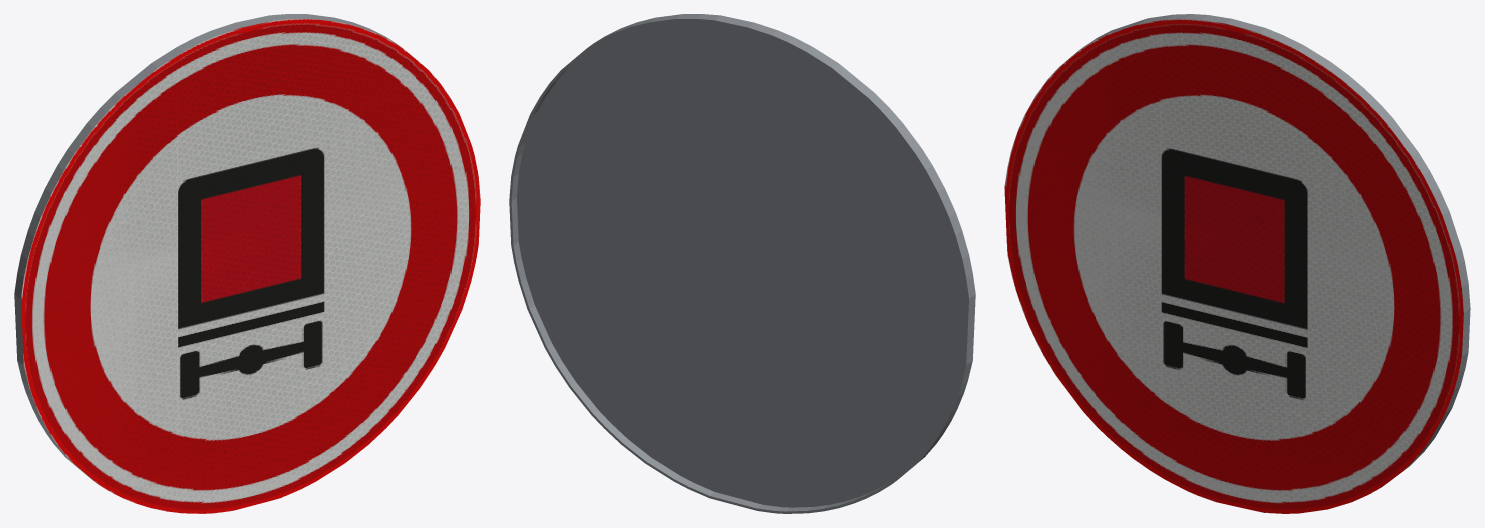
The picture shows the model from 3 angles, left to right: view 1: azimuth 30°, elevation 25°; view 2: azimuth 150°, elevation 25°; view 3: azimuth 330°, elevation 25°; orthographic projection.
Parts seen in each view (by area): view 1: cat_df04da1b0041bbc9; view 2: cat_df04da1b0041bbc9; view 3: cat_df04da1b0041bbc9.
Boxes of the visible parts, left/top/right/bottom form: cat_df04da1b0041bbc9: left=14, top=14, right=480, bottom=513; cat_df04da1b0041bbc9: left=509, top=14, right=975, bottom=513; cat_df04da1b0041bbc9: left=1004, top=14, right=1470, bottom=513.
Bounding box in the file's own units: 0.6 × 0.015 × 0.6.
Materials: 2 (1 with a texture image).
